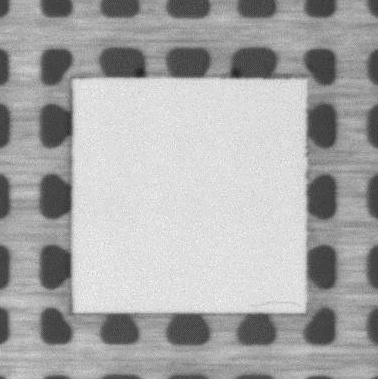DIE_CRACK: (253, 300, 308, 307)
